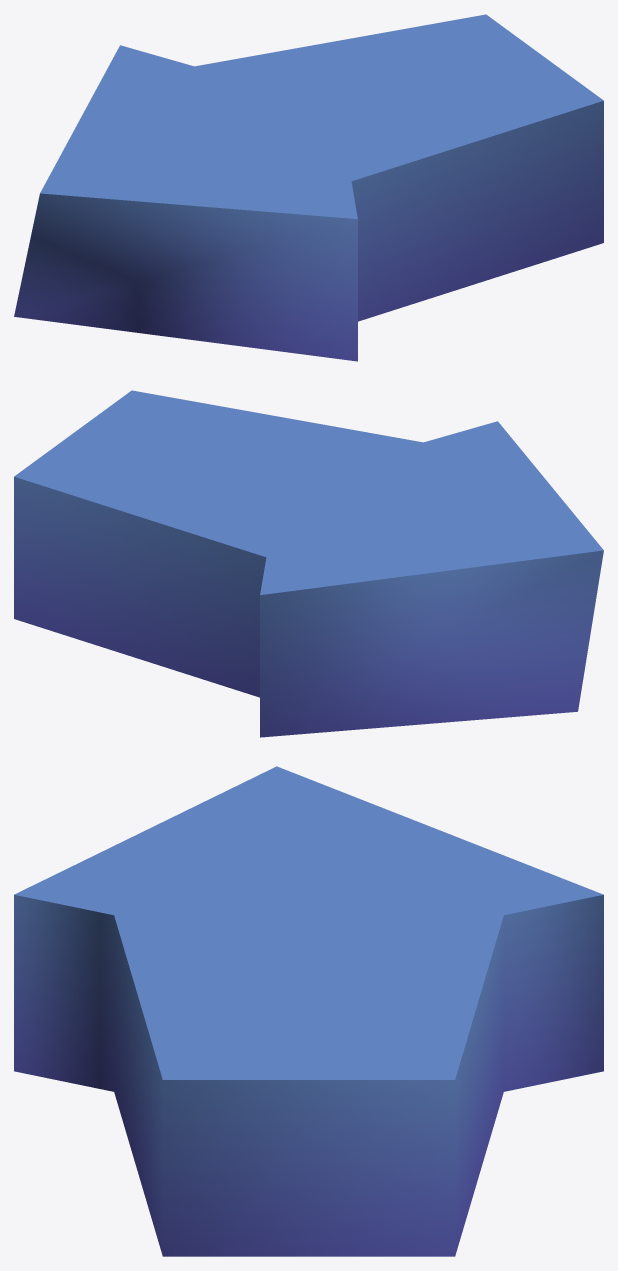
Rendered from cc0-arrow-rounded-lod1.glb.
3 renders of one model, top to bottom at view 1: azimuth 30°, elevation 25°; view 2: azimuth 150°, elevation 25°; view 3: azimuth 270°, elevation 25°, orthographic. The views are drawn at different scales.
Visible parts, largest first — view 1: part_0; view 2: part_0; view 3: part_0.
Part boxes in pixels (x1,y1,x2,y2): part_0: (14,14,603,361); part_0: (14,390,603,737); part_0: (14,766,603,1256).
Size of the model in its own units: 0.7618 by 0.2 by 0.6055.
1 material, 1 textured.
